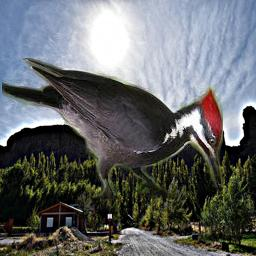Woodpecker: (3, 59, 224, 200)
